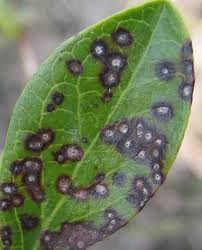Diseased_Leaves: (101, 121, 168, 171), (12, 159, 42, 230), (89, 43, 121, 102), (52, 171, 101, 209), (50, 220, 101, 244), (127, 178, 150, 209), (115, 31, 132, 45), (66, 61, 82, 74)
